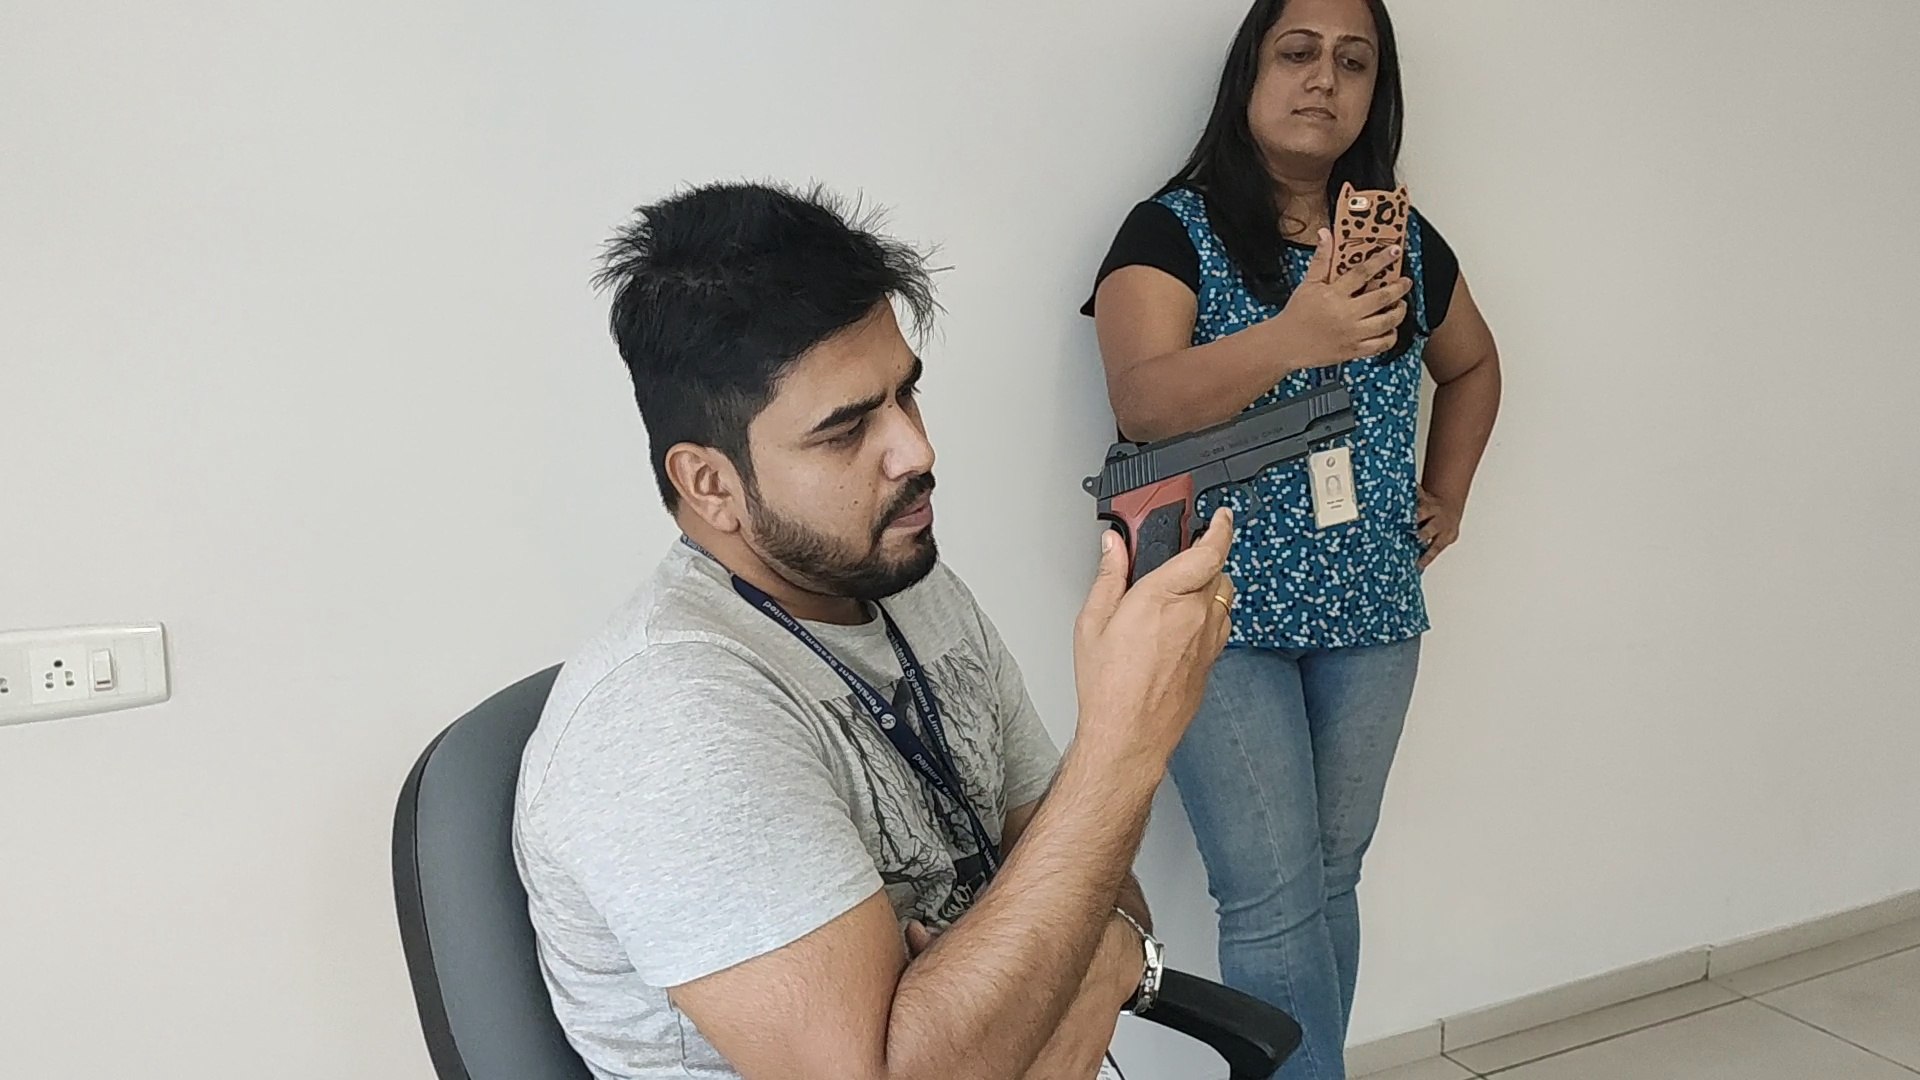gun: (1081, 381, 1358, 504)
